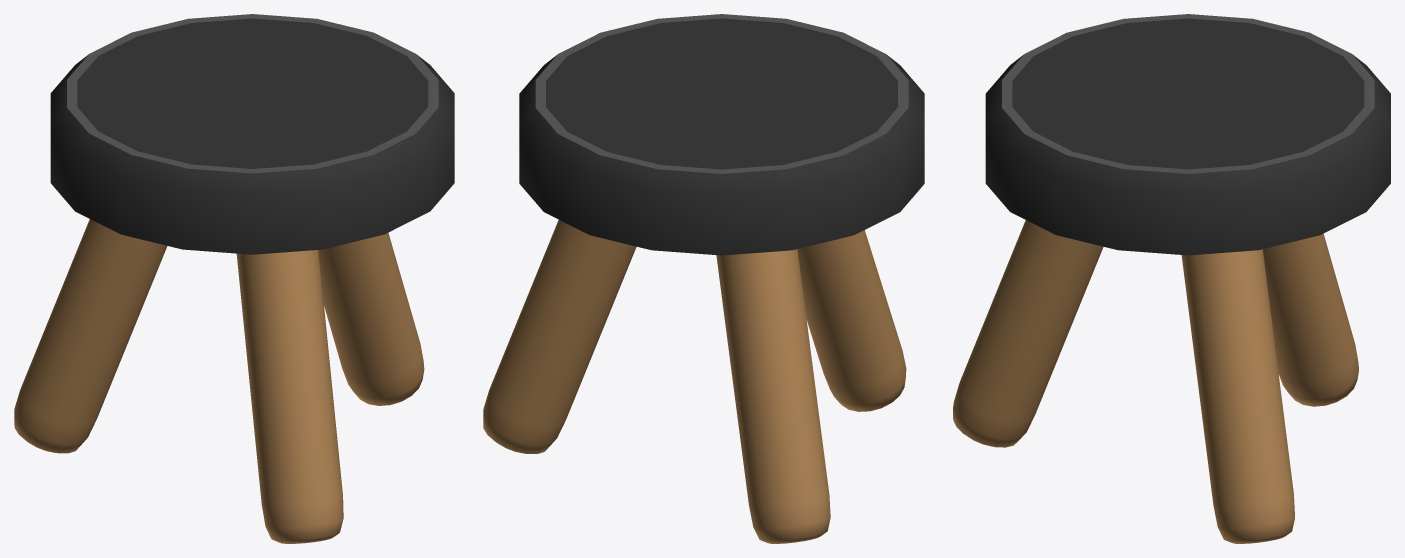
File: Sillita.FBX
3 views of the same model, side by side, from view 1: azimuth 30°, elevation 25°; view 2: azimuth 150°, elevation 25°; view 3: azimuth 270°, elevation 25° (orthographic).
Parts seen in each view (by area): view 1: Cylinder001; view 2: Cylinder001; view 3: Cylinder001.
Part boxes in pixels (box(x1,y1,x2,y2)): Cylinder001: box(14, 14, 454, 543); Cylinder001: box(483, 14, 924, 543); Cylinder001: box(953, 14, 1390, 543).
Bounding box in the file's own units: 79.2 × 79.35 × 73.83.
